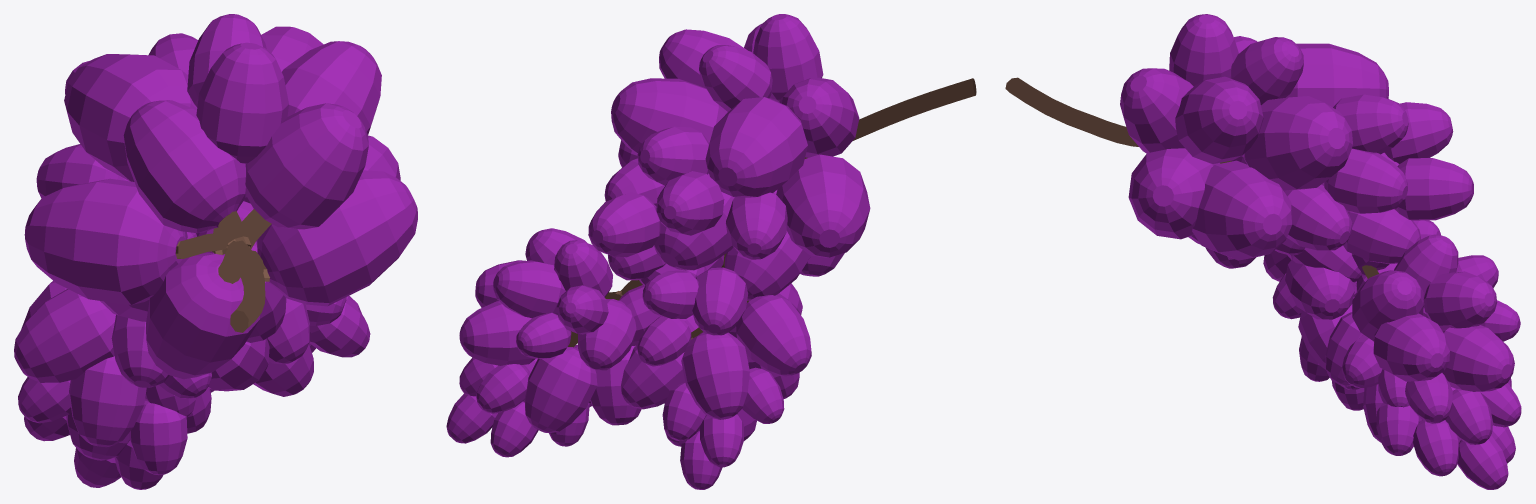
Rendered from Purple Grapes.glb.
3 renders of one model, left to right at view 1: azimuth 30°, elevation 25°; view 2: azimuth 150°, elevation 25°; view 3: azimuth 270°, elevation 25°, orthographic. The views are drawn at different scales.
Visible parts, largest first — view 1: Node; view 2: Node; view 3: Node.
Part boxes in pixels (x1,y1,x2,y2): Node: (14,14,417,489); Node: (446,14,976,489); Node: (1005,14,1521,489).
Size of the model in its own units: 0.8325 by 0.9938 by 1.13.
